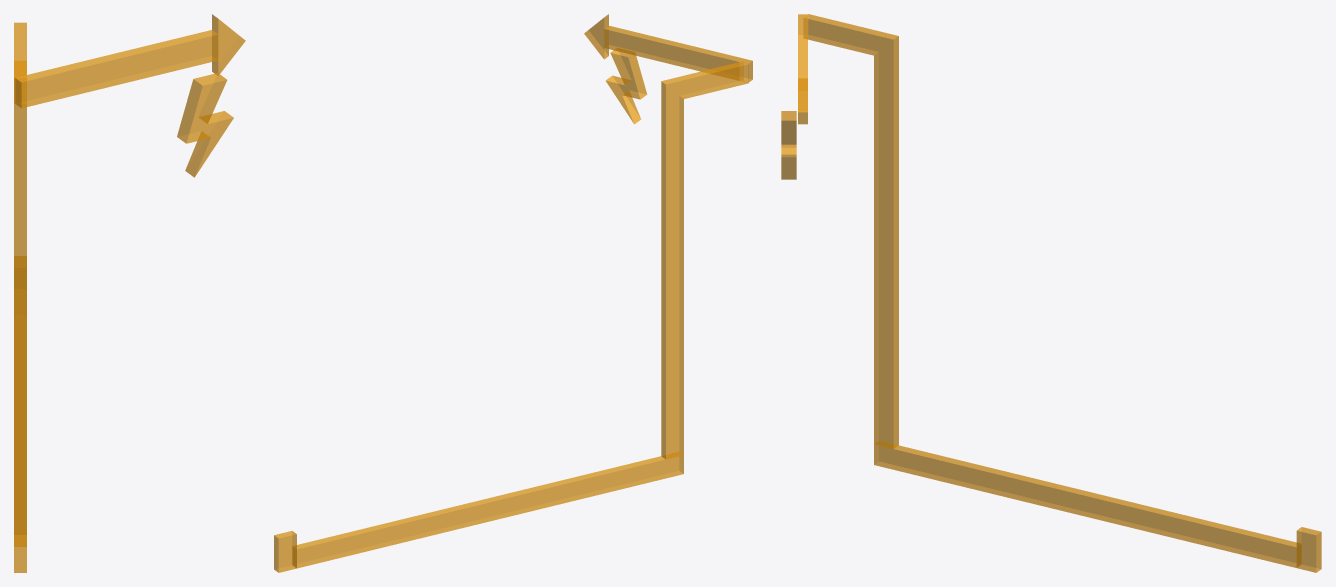
The model's file is Barkapanacak.gltf.
3 renders of one model, left to right at view 1: azimuth 30°, elevation 25°; view 2: azimuth 150°, elevation 25°; view 3: azimuth 270°, elevation 25°, orthographic. The views are drawn at different scales.
Parts seen in each view (by area): view 1: Cube.077, Cube.072, Cube.080, Simsek3.011, Plane.053, Cube.079, Cube.075; view 2: Cube.080, Cube.077, Cube.072, Simsek3.011, Cube.079, Cube.075, Plane.053; view 3: Cube.080, Cube.077, Cube.079, Simsek3.011, Cube.075, Cube.072.
Part boxes in pixels (x1,y1,x2,y2): Cube.077: (14, 22, 26, 546); Cube.072: (15, 30, 218, 108); Cube.080: (14, 315, 26, 572); Simsek3.011: (177, 73, 233, 177); Plane.053: (212, 14, 245, 75); Cube.079: (14, 34, 26, 103); Cube.075: (14, 256, 26, 288); Cube.080: (292, 452, 683, 568); Cube.077: (661, 77, 683, 459); Cube.072: (604, 25, 752, 82); Simsek3.011: (605, 48, 647, 124); Cube.079: (679, 61, 748, 98); Cube.075: (274, 531, 296, 572); Plane.053: (584, 14, 608, 59); Cube.080: (874, 441, 1301, 567); Cube.077: (874, 31, 898, 448); Cube.079: (803, 14, 878, 55); Simsek3.011: (781, 111, 796, 179); Cube.075: (1296, 527, 1321, 572); Cube.072: (798, 14, 807, 90).
Size of the model in its own units: 0.2996 by 0.48 by 0.5305.
